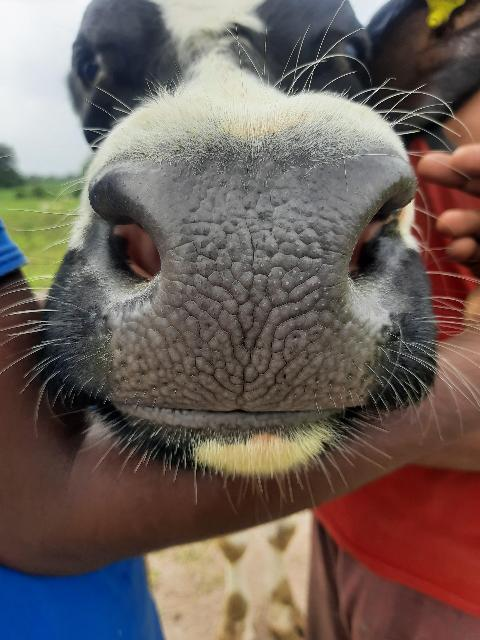Muzzle: (114, 165, 366, 408)
